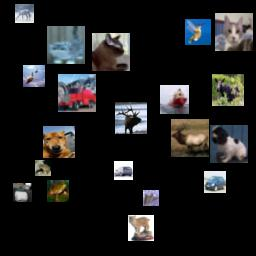airplane: (23, 65, 45, 87), (143, 190, 159, 206)
automobile: (204, 171, 226, 193), (114, 161, 133, 180), (13, 183, 32, 202)
bird: (185, 19, 211, 45)
cat: (92, 33, 130, 71), (215, 13, 253, 51), (47, 26, 85, 64), (128, 215, 154, 241)
deer: (171, 119, 209, 157), (212, 74, 244, 106), (115, 102, 147, 134)
dog: (210, 125, 248, 163), (43, 126, 75, 158)
frog: (47, 180, 69, 202), (35, 160, 51, 176)
ship: (160, 85, 189, 114)
truck: (58, 74, 96, 112)
